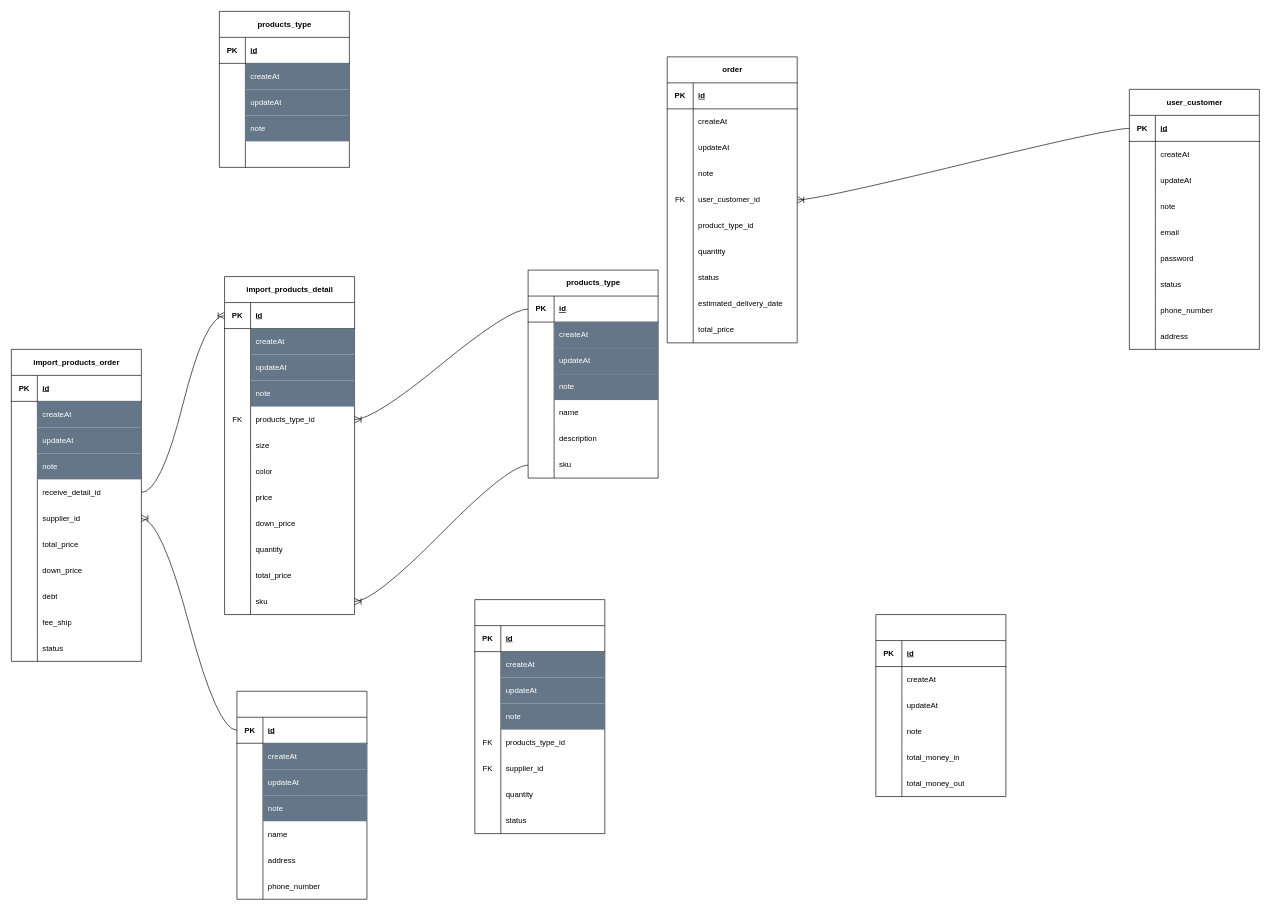
The diagram is 1271 pixels wide and 911 high, and some of its shapes have lost their labels. Here are the shapes that lost their labels. From the top down, the box of each, then its label:
(474, 599, 605, 834): inventory
(875, 614, 1006, 797): accountant
(236, 691, 367, 899): supplier
